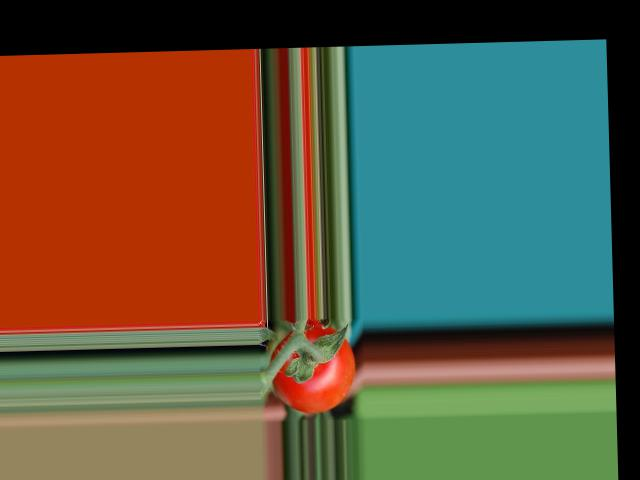tomato: (268, 319, 356, 413)
